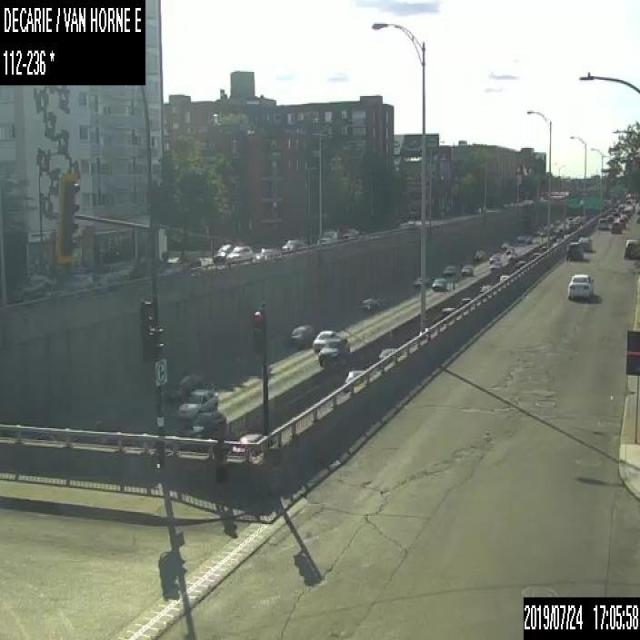vehicle: (176, 384, 218, 420), (165, 371, 202, 397), (228, 434, 270, 456), (318, 338, 350, 366), (16, 275, 54, 298), (192, 409, 225, 433), (567, 273, 593, 299), (312, 329, 338, 351), (290, 324, 312, 347), (225, 244, 252, 262), (254, 246, 278, 262), (212, 244, 234, 261), (316, 228, 338, 244), (357, 297, 378, 312), (342, 369, 362, 384), (625, 238, 639, 258), (566, 242, 583, 258), (281, 237, 299, 252), (341, 227, 359, 240), (412, 276, 430, 287), (578, 236, 592, 250), (432, 277, 446, 290), (378, 348, 396, 358), (440, 306, 455, 316), (473, 249, 485, 261), (460, 264, 472, 276), (597, 216, 608, 229), (444, 264, 455, 277), (458, 296, 470, 306), (610, 220, 620, 232), (512, 260, 524, 270), (478, 284, 491, 293), (529, 251, 540, 260), (489, 253, 498, 263), (616, 216, 624, 227), (508, 251, 516, 260), (498, 274, 508, 281), (605, 212, 613, 220), (506, 245, 514, 253), (620, 212, 627, 221), (501, 242, 508, 248)
